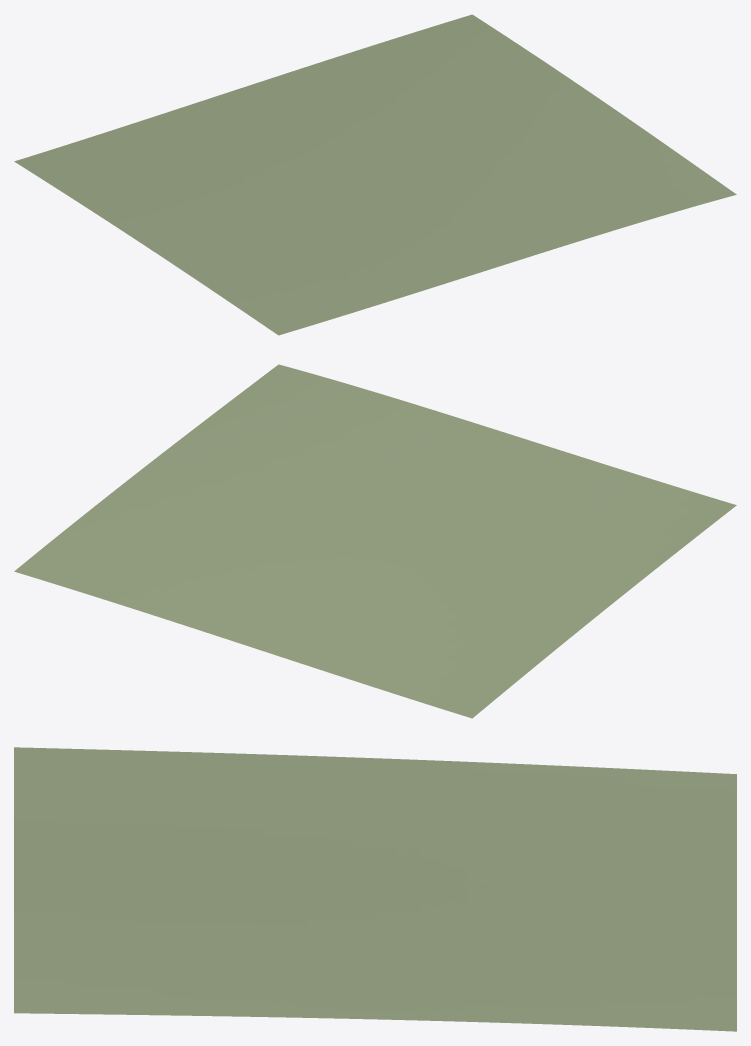
Rendered from expanse-4-25.glb.
The picture shows the model from 3 angles, top to bottom: view 1: azimuth 30°, elevation 25°; view 2: azimuth 150°, elevation 25°; view 3: azimuth 270°, elevation 25°; orthographic projection. The views are drawn at different scales.
Visible parts, largest first — view 1: expanse-4-25; view 2: expanse-4-25; view 3: expanse-4-25.
Part boxes in pixels (bbox=[...]): expanse-4-25: bbox=[14, 14, 736, 335]; expanse-4-25: bbox=[14, 364, 736, 718]; expanse-4-25: bbox=[14, 747, 736, 1031].
Bounding box in the file's own units: 256 × 25.96 × 256.
